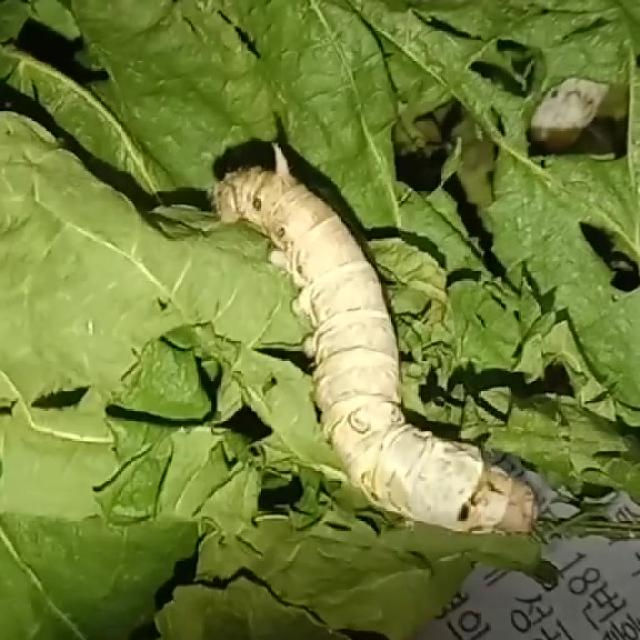Grasserie: (208, 142, 548, 548)
